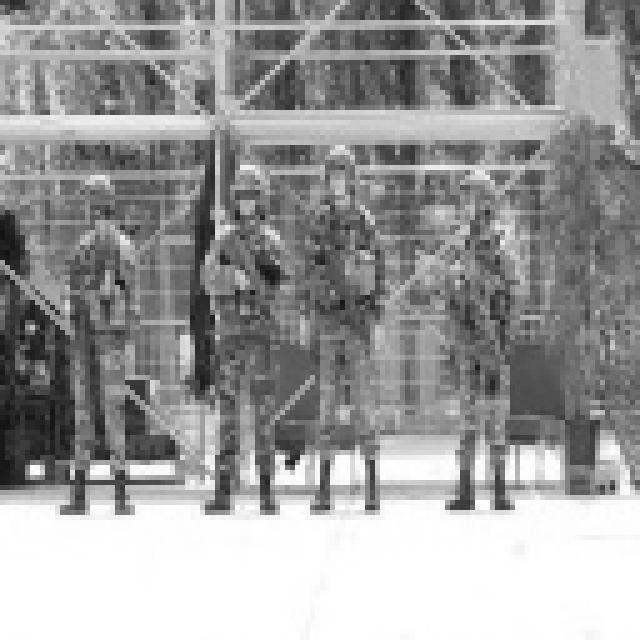Rifle: (414, 198, 546, 390), (303, 174, 394, 370), (198, 206, 290, 354)
